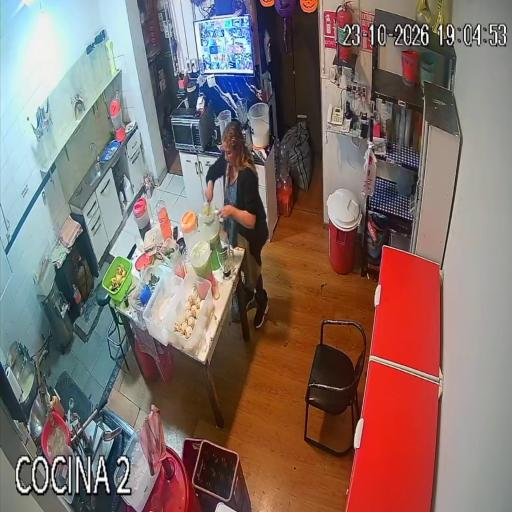Balde: (248, 103, 270, 149)
Envase Llajua: (52, 394, 64, 418)
Jarra1: (134, 197, 150, 238)
Jarra2: (181, 210, 197, 249)
Jarra3: (189, 240, 212, 280), (218, 110, 231, 137)
Jarra4: (199, 202, 220, 269)
Licuadora: (213, 119, 221, 145)
Licuadora2: (237, 98, 252, 146)
Microondas: (170, 104, 214, 151)
Persona2: (205, 121, 268, 328)
Taper: (102, 256, 132, 302)
Taper2: (129, 265, 164, 332)
Taper3: (143, 270, 183, 346)
Taper4: (164, 274, 213, 356)
Taper5: (122, 430, 158, 512), (115, 466, 126, 484)
